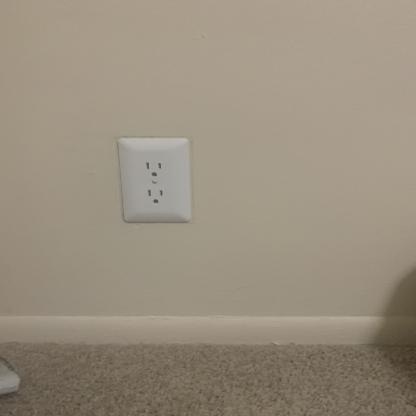OUTLET: (116, 138, 194, 223)
